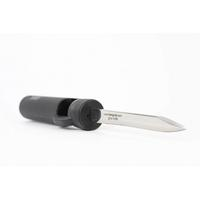knife: (14, 90, 194, 139)
